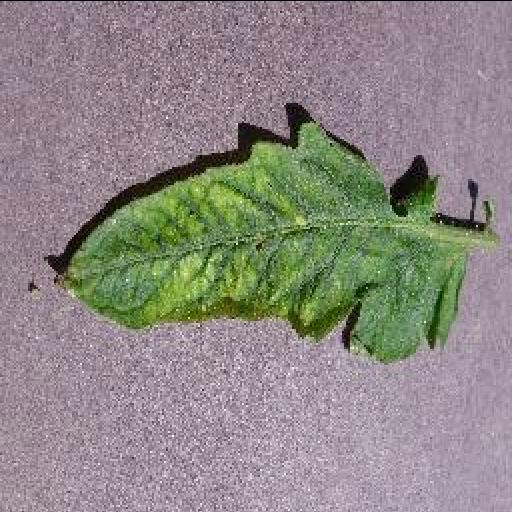Mosaic Virus: (51, 122, 469, 366)
